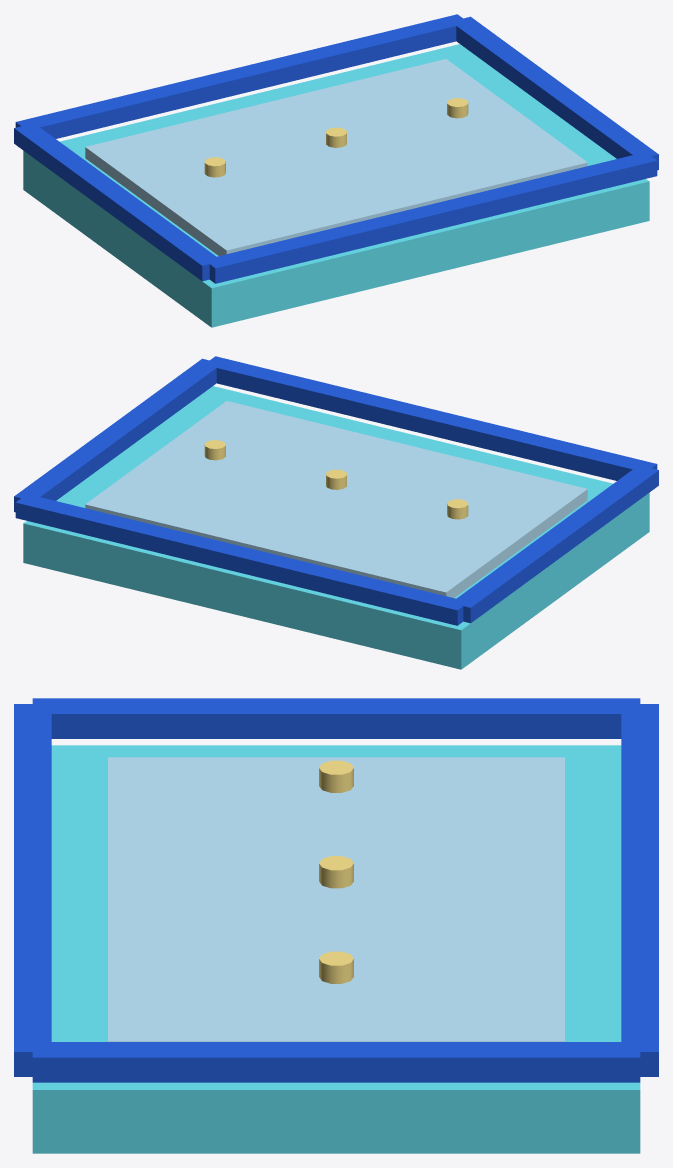
Rendered from toy_blink_acrylic_panel.glb.
3 views of the same model, one above another, from view 1: azimuth 30°, elevation 25°; view 2: azimuth 150°, elevation 25°; view 3: azimuth 270°, elevation 25° (orthographic). The views are drawn at different scales.
Visible parts, largest first — view 1: solid_2, solid_1, solid_4, solid_3, solid_5, solid_6; view 2: solid_2, solid_1, solid_3, solid_4, solid_5, solid_6; view 3: solid_2, solid_1, solid_6, solid_5, solid_4, solid_3, solid_8, solid_9, solid_7.
Part boxes in pixels (x1=…): solid_2: x1=85, y1=59, x2=587, y2=255; solid_1: x1=23, y1=44, x2=649, y2=327; solid_4: x1=204, y1=152, x2=657, y2=283; solid_3: x1=15, y1=14, x2=468, y2=138; solid_5: x1=14, y1=126, x2=221, y2=281; solid_6: x1=451, y1=16, x2=658, y2=170; solid_2: x1=85, y1=401, x2=587, y2=597; solid_1: x1=23, y1=386, x2=649, y2=669; solid_3: x1=15, y1=494, x2=468, y2=625; solid_4: x1=204, y1=356, x2=657, y2=480; solid_5: x1=451, y1=468, x2=658, y2=623; solid_6: x1=14, y1=358, x2=221, y2=512; solid_2: x1=108, y1=757, x2=564, y2=1041; solid_1: x1=32, y1=745, x2=640, y2=1153; solid_6: x1=32, y1=1042, x2=640, y2=1082; solid_5: x1=32, y1=698, x2=640, y2=738; solid_4: x1=14, y1=704, x2=51, y2=1076; solid_3: x1=621, y1=704, x2=658, y2=1076; solid_8: x1=319, y1=856, x2=353, y2=888; solid_9: x1=319, y1=951, x2=353, y2=983; solid_7: x1=319, y1=760, x2=353, y2=792.
Size of the model in its own units: 3.39 by 0.52 by 2.57.
